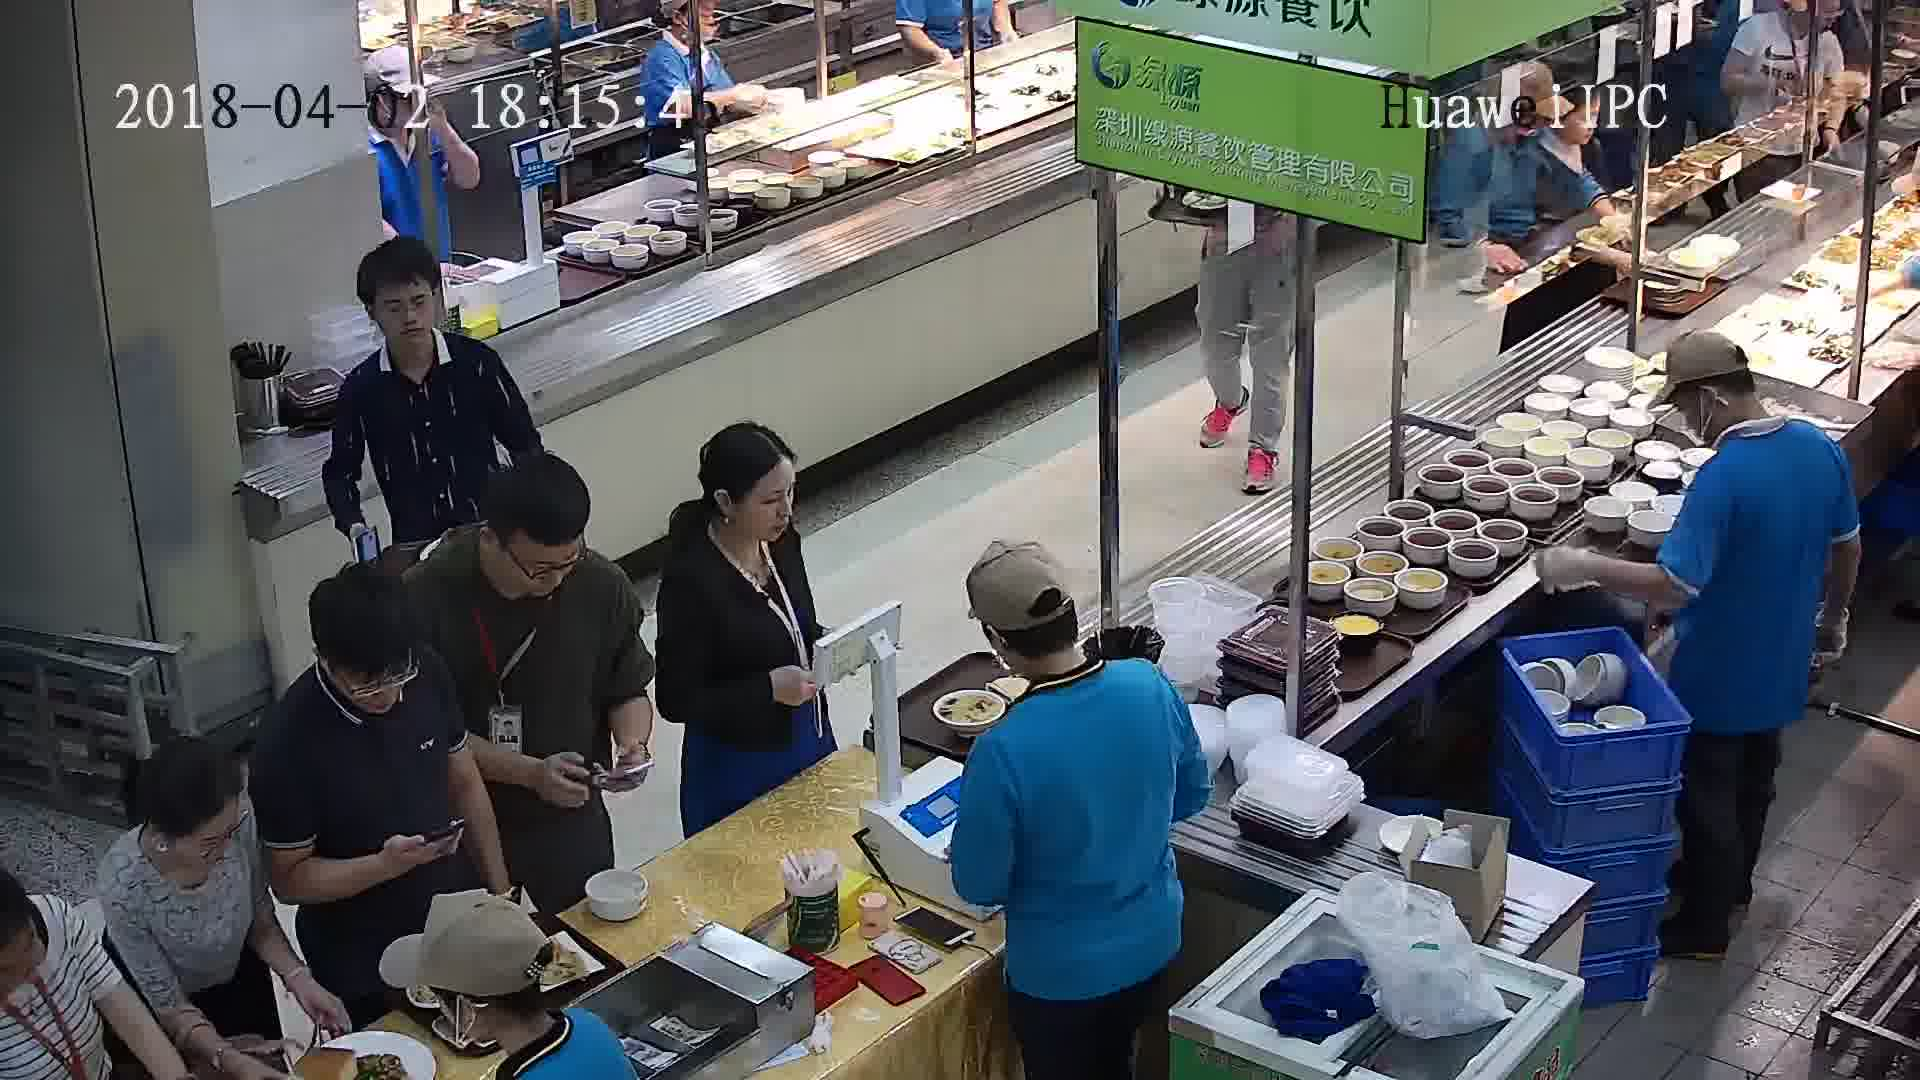face: (723, 458, 806, 541), (371, 279, 440, 348), (509, 529, 578, 598), (173, 801, 241, 868), (1655, 383, 1716, 444), (349, 663, 404, 718), (1560, 97, 1609, 146)
person: (969, 559, 1183, 795), (387, 885, 634, 1079), (250, 562, 459, 787), (407, 457, 638, 651), (1646, 339, 1850, 510), (652, 417, 804, 631), (92, 733, 265, 922), (336, 234, 510, 417), (1453, 63, 1587, 192), (1, 869, 65, 1071), (640, 0, 724, 73), (1735, 1, 1845, 55)
